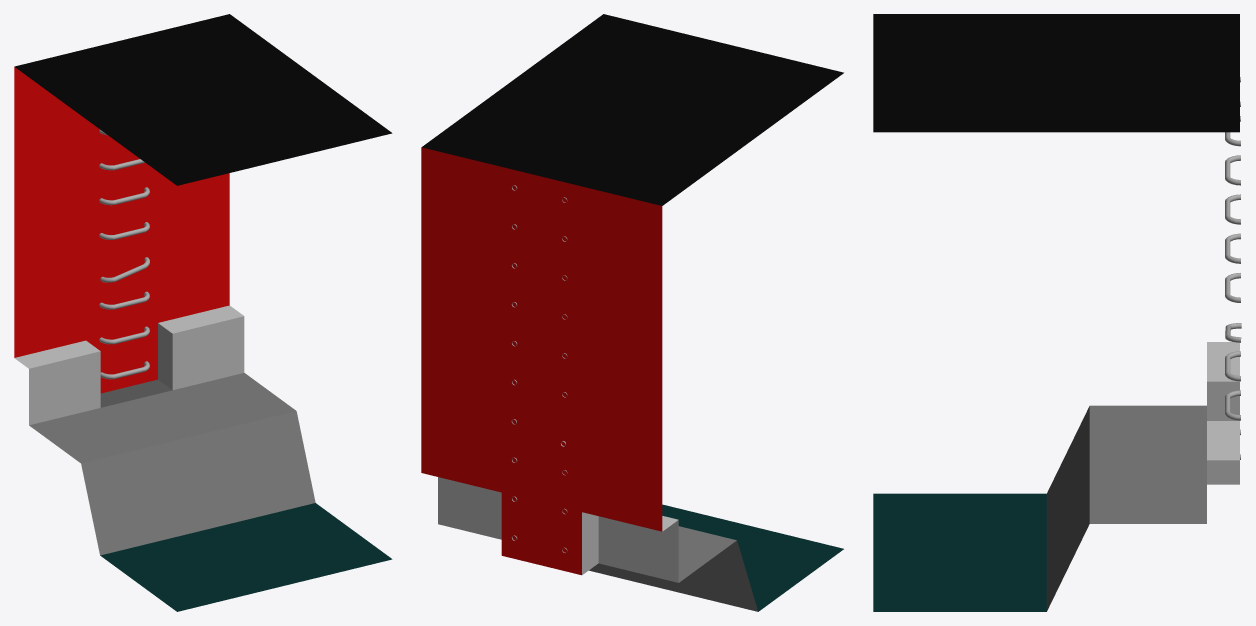
Rendered from recta_escalera.fbx.
3 views of the same model, side by side, from view 1: azimuth 30°, elevation 25°; view 2: azimuth 150°, elevation 25°; view 3: azimuth 270°, elevation 25° (orthographic). The views are drawn at different scales.
Parts seen in each view (by area): view 1: Pieza_Recta_Escalera; view 2: Pieza_Recta_Escalera; view 3: Pieza_Recta_Escalera.
Boxes of the visible parts, bbox=[...] form: Pieza_Recta_Escalera: bbox=[14, 14, 392, 611]; Pieza_Recta_Escalera: bbox=[421, 14, 843, 611]; Pieza_Recta_Escalera: bbox=[873, 14, 1241, 611].
Bounding box in the file's own units: 20 × 37.77 × 26.31.
